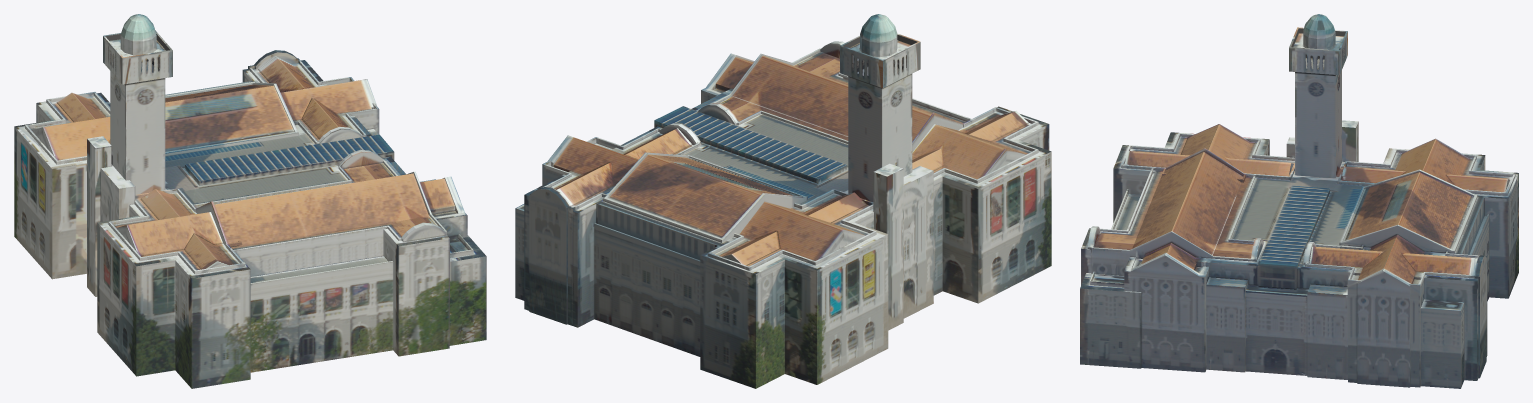
3 renders of one model, left to right at view 1: azimuth 30°, elevation 25°; view 2: azimuth 150°, elevation 25°; view 3: azimuth 270°, elevation 25°, orthographic. The views are drawn at different scales.
Parts seen in each view (by area): view 1: 11_0.glb_1; view 2: 11_0.glb_1; view 3: 11_0.glb_1.
Part boxes in pixels (box(x1,y1,x2,y2)): 11_0.glb_1: box(14, 14, 486, 388); 11_0.glb_1: box(515, 14, 1051, 388); 11_0.glb_1: box(1080, 14, 1518, 388).
Size of the model in its own units: 70.41 by 53.35 by 83.17.
Materials: 1 (1 with a texture image).
